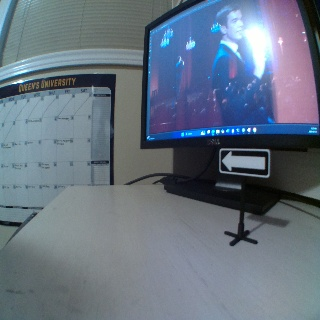sign_oneway_left: (219, 147, 269, 176)
